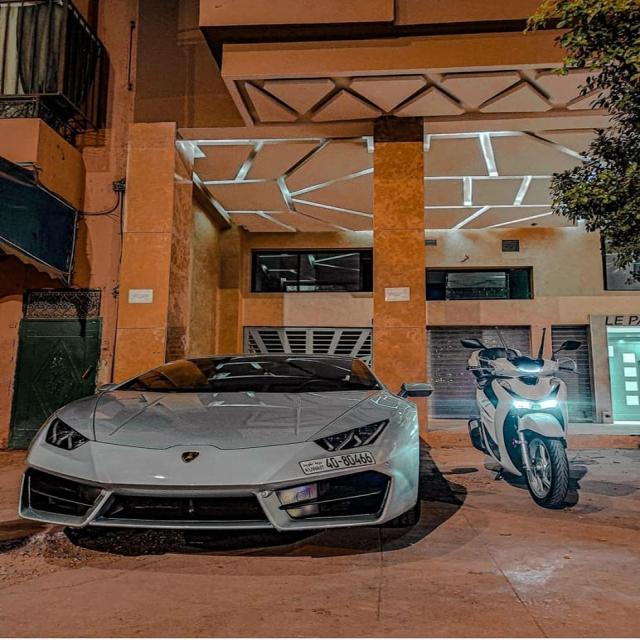Car: (18, 355, 429, 532)
Motorcycle: (463, 331, 580, 509)
